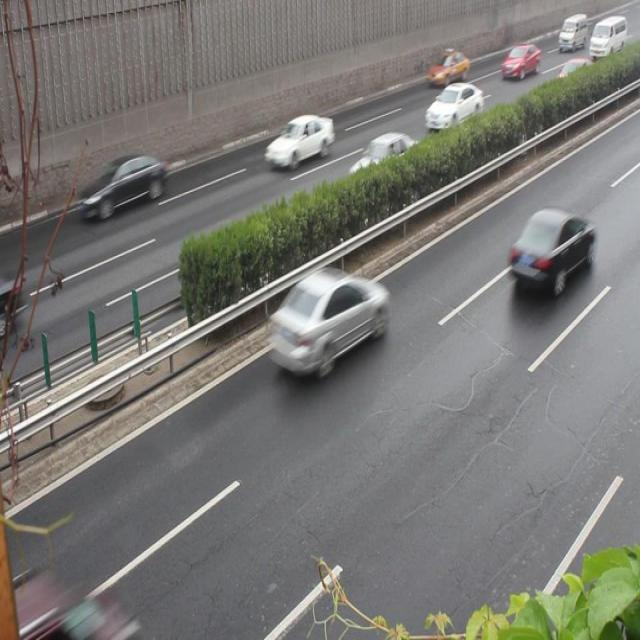car: (266, 268, 388, 378), (1, 564, 138, 640), (508, 205, 593, 292), (79, 155, 166, 221), (347, 130, 420, 188), (265, 112, 334, 172), (425, 83, 482, 133), (1, 266, 26, 350), (501, 43, 538, 84), (426, 50, 466, 85)
